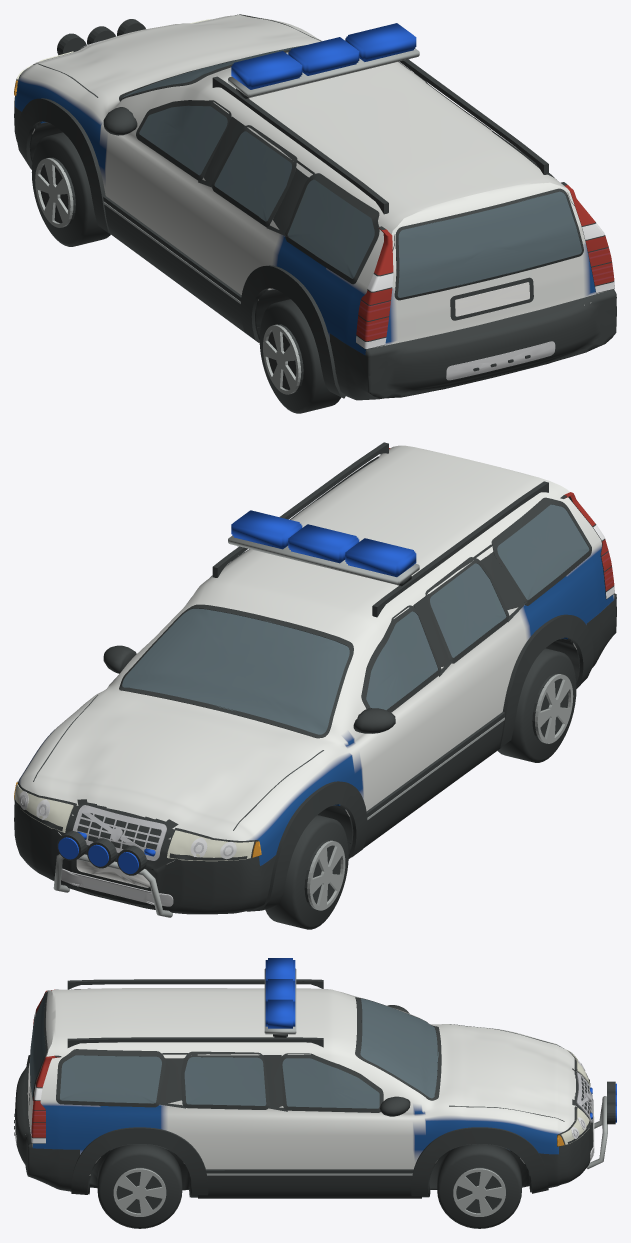
File: xc70-police.glb
3 views of the same model, one above another, from view 1: azimuth 30°, elevation 25°; view 2: azimuth 150°, elevation 25°; view 3: azimuth 270°, elevation 25° (orthographic). The views are drawn at different scales.
Visible parts, largest first — view 1: body, trim_body_plastic, glass_rear, glass_side_-1_2, trim_cladding_-1, glass_side_-1_1, glass_side_-1_0, trim_flare_-1_-1.393, wheel_rl, wheel_fl, trim_flare_-1_1.37, lamp_tail_-1 (+23 smaller); view 2: body, glass_screen, trim_body_plastic, glass_side_-1_2, trim_cladding_-1, glass_side_-1_1, glass_side_-1_0, wheel_fl, trim_flare_-1_1.37, wheel_rl, trim_flare_-1_-1.393, trim_seal_screen (+24 smaller); view 3: body, trim_body_plastic, trim_cladding_1, glass_screen, glass_side_1_2, wheel_fr, wheel_rr, glass_side_1_1, glass_side_1_0, trim_flare_1_1.37, trim_flare_1_-1.393, trim_roof_rail_1 (+20 smaller).
Boxes of the visible parts, x1,y1,x2,y2 form: body: (15, 14, 602, 355); trim_body_plastic: (14, 45, 616, 400); glass_rear: (397, 191, 581, 297); glass_side_-1_2: (288, 179, 374, 278); trim_cladding_-1: (103, 196, 259, 342); glass_side_-1_1: (215, 131, 291, 221); glass_side_-1_0: (139, 105, 227, 175); trim_flare_-1_-1.393: (240, 265, 345, 398); wheel_rl: (259, 299, 341, 413); wheel_fl: (31, 132, 110, 246); trim_flare_-1_1.37: (17, 98, 109, 233); lamp_tail_-1: (356, 226, 394, 349); body: (18, 445, 614, 865); glass_screen: (122, 608, 349, 734); trim_body_plastic: (14, 593, 616, 914); glass_side_-1_2: (497, 504, 589, 599); trim_cladding_-1: (348, 712, 505, 858); glass_side_-1_1: (430, 563, 506, 657); glass_side_-1_0: (366, 611, 437, 710); wheel_fl: (265, 815, 348, 929); trim_flare_-1_1.37: (247, 781, 367, 911); wheel_rl: (497, 648, 576, 762); trim_flare_-1_-1.393: (499, 614, 593, 747); trim_seal_screen: (119, 604, 353, 738); body: (25, 988, 576, 1175); trim_body_plastic: (15, 1055, 593, 1197); trim_cladding_1: (198, 1169, 421, 1198); glass_screen: (360, 998, 438, 1098); glass_side_1_2: (60, 1055, 161, 1103); wheel_fr: (437, 1144, 521, 1228); wheel_rr: (97, 1144, 182, 1228); glass_side_1_1: (184, 1057, 266, 1105); glass_side_1_0: (282, 1058, 379, 1108); trim_flare_1_1.37: (411, 1127, 548, 1196); trim_flare_1_-1.393: (71, 1127, 208, 1195); trim_roof_rail_1: (67, 1037, 323, 1047).
Size of the model in its own units: 2.01 by 1.74 by 4.91.
